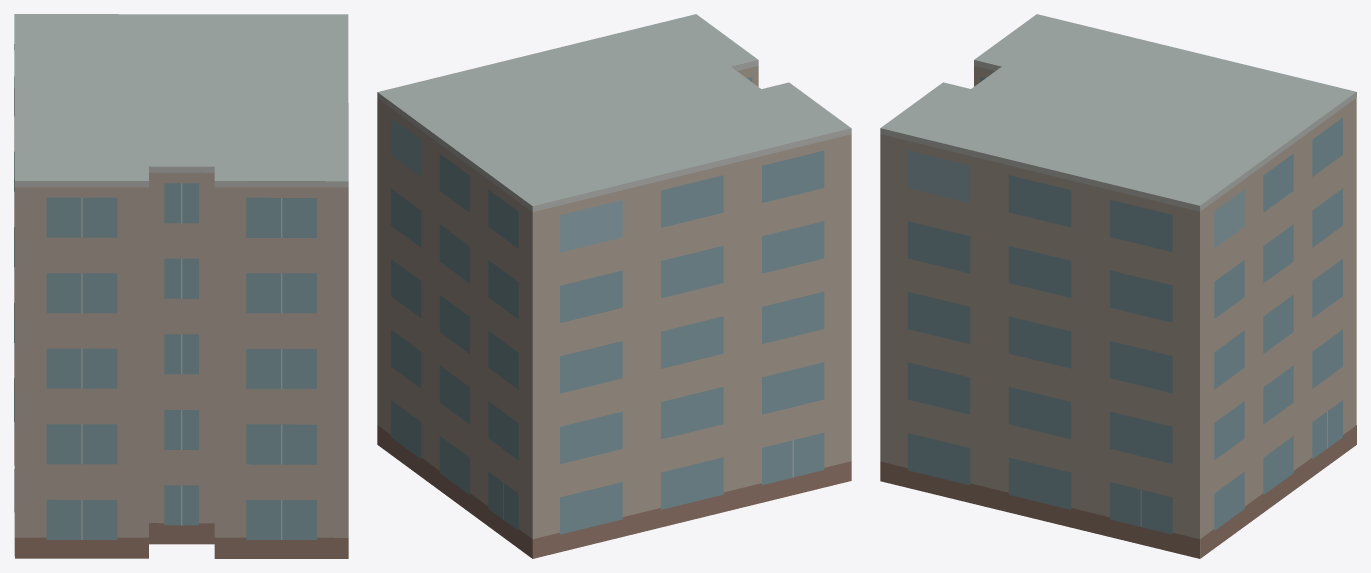
File: survey-upis-32788661.glb
3 views of the same model, side by side, from view 1: azimuth 30°, elevation 25°; view 2: azimuth 150°, elevation 25°; view 3: azimuth 270°, elevation 25° (orthographic). The views are drawn at different scales.
Visible parts, largest first — view 1: survey-upis-32788661.tmp; view 2: survey-upis-32788661.tmp; view 3: survey-upis-32788661.tmp.
Boxes of the visible parts, x1,y1,x2,y2 form: survey-upis-32788661.tmp: (14, 14, 348, 558); survey-upis-32788661.tmp: (377, 14, 851, 558); survey-upis-32788661.tmp: (880, 14, 1356, 558).
Size of the model in its own units: 17.02 by 14.6 by 17.87.
